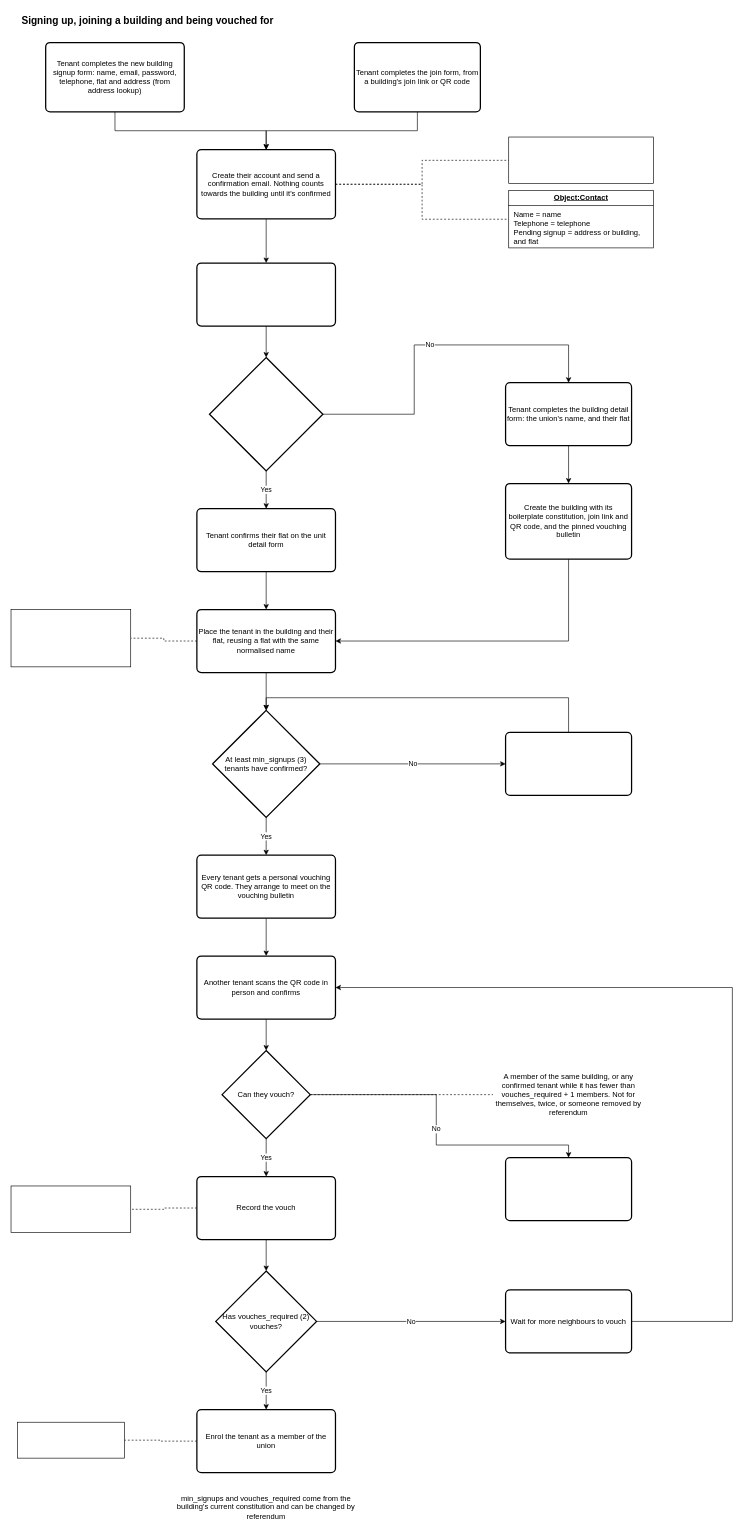
This 748x1533 diagram has some shape labels left out. Each missing label, with the box of its shape:
Joined by link, or address matches a registered building?: (209, 357, 323, 471)
Object:Contact Enrolled at = now: (17, 1422, 124, 1458)
Object:Unit Name = flat Normalised name = flat 4 (also matches FLAT 4.): (10, 609, 131, 667)
Object:User Email = email Password = password: (508, 136, 654, 184)
Object:Vouch Voucher = scanning tenant Vouchee = QR code's tenant: (10, 1185, 131, 1233)
Refused, with the reason: (505, 1157, 632, 1221)
Tenant confirms their email: (196, 262, 336, 326)
Wait. Invite neighbours with printed flyers and posters: (505, 731, 632, 796)
